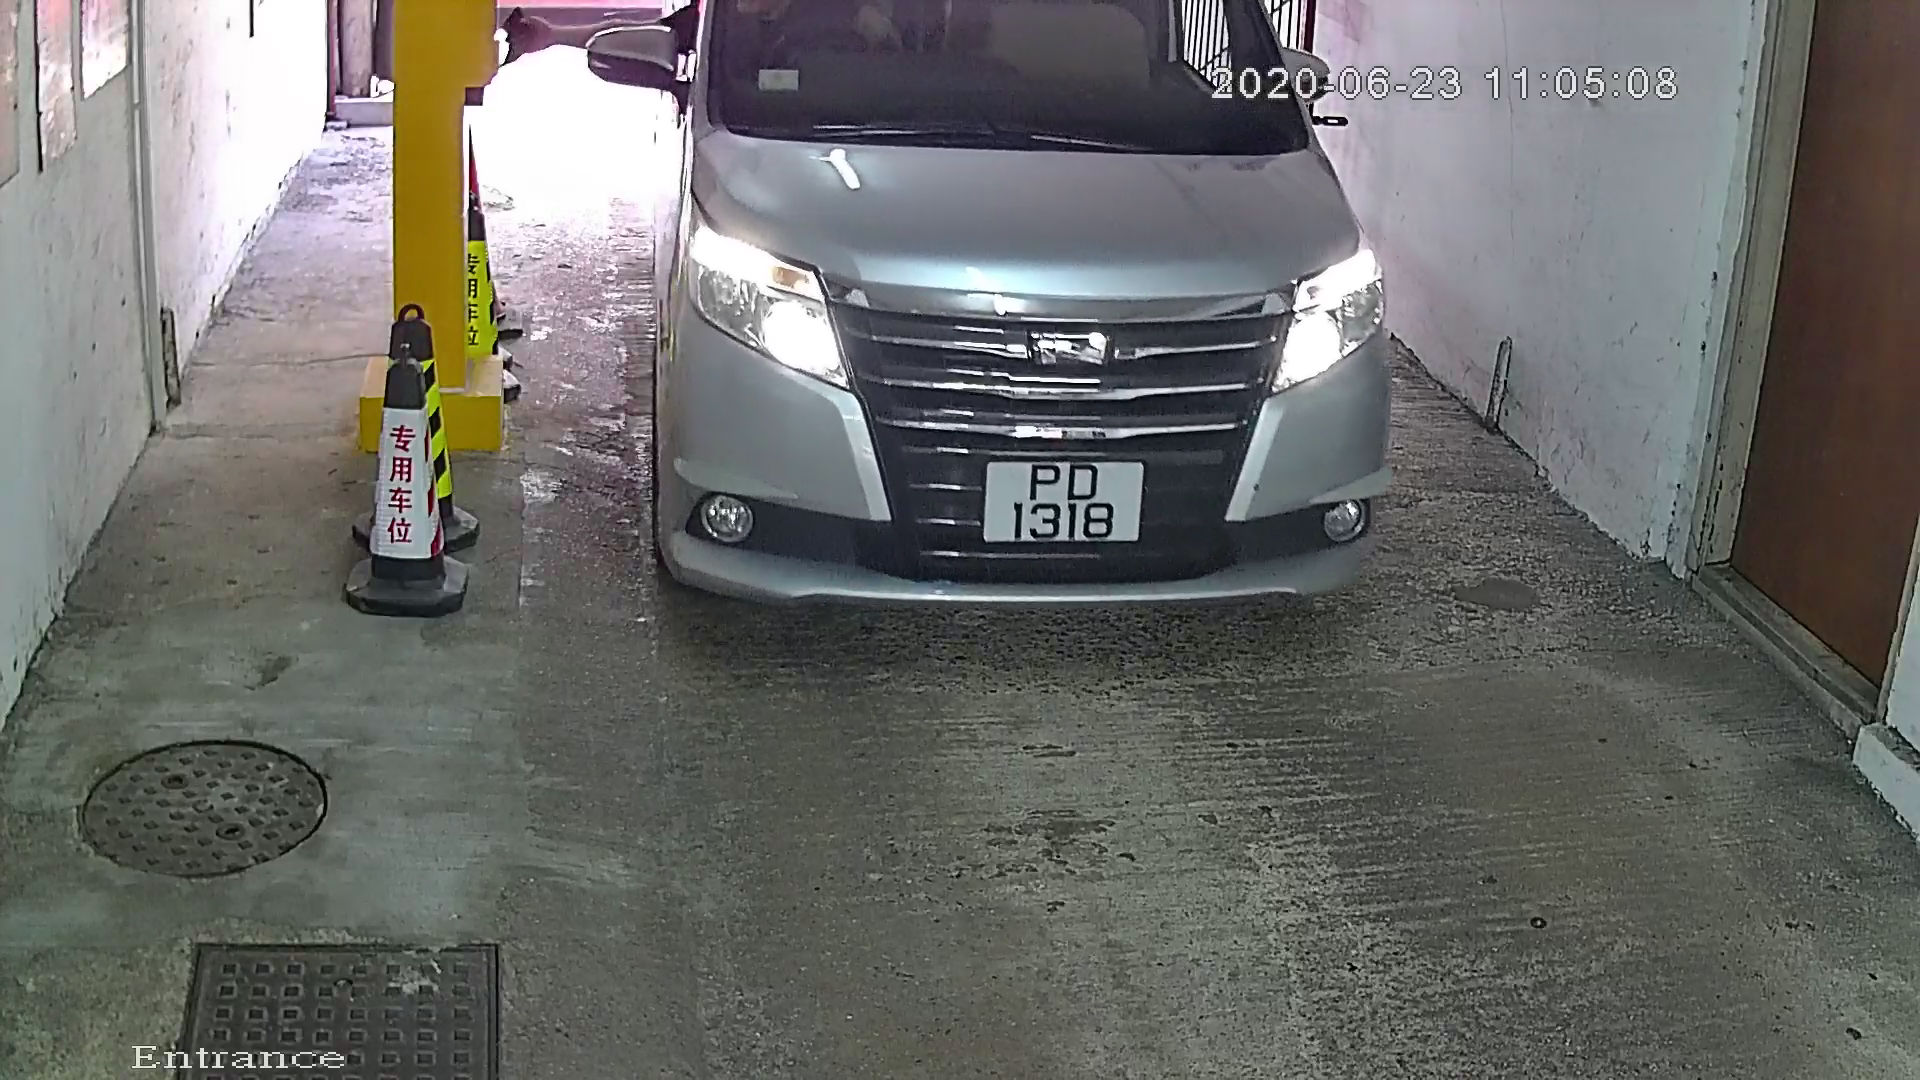privatecar: (574, 3, 1432, 661)
